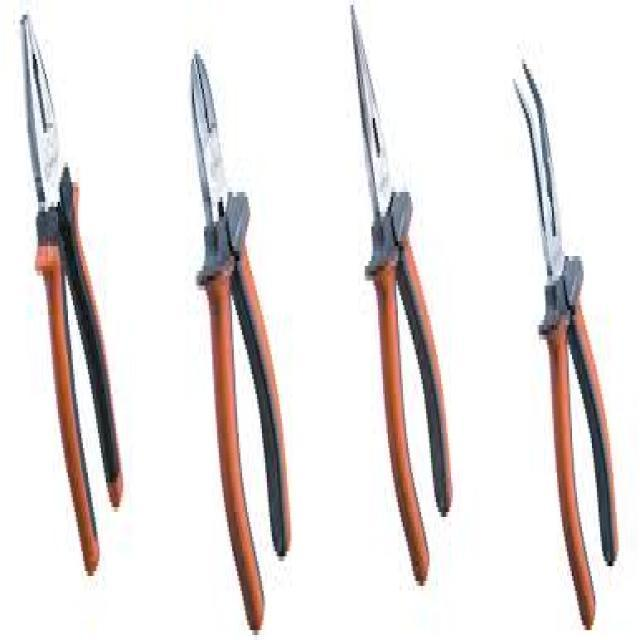pliers: (178, 23, 302, 631), (506, 37, 626, 640), (342, 0, 460, 597), (11, 0, 128, 591)
